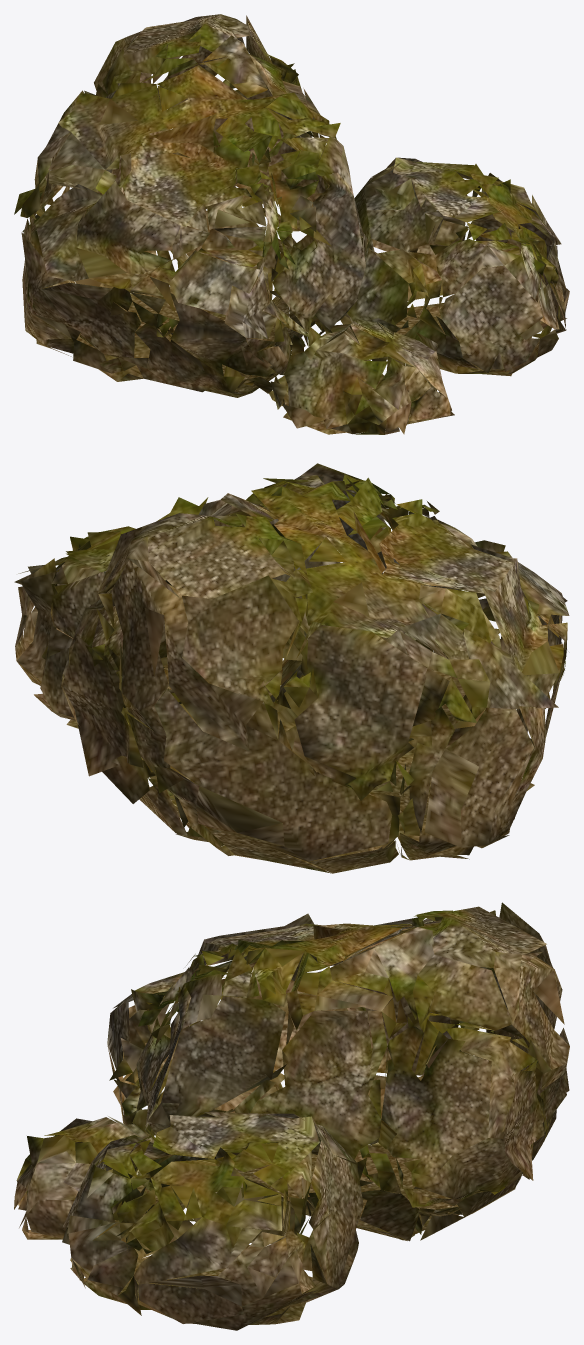
File: pedras_lod1.glb
3 renders of one model, top to bottom at view 1: azimuth 30°, elevation 25°; view 2: azimuth 150°, elevation 25°; view 3: azimuth 270°, elevation 25°, orthographic. The views are drawn at different scales.
Parts seen in each view (by area): view 1: pedras; view 2: pedras; view 3: pedras.
Boxes of the visible parts, x1=… form: pedras: x1=14, y1=14, x2=569, y2=434; pedras: x1=14, y1=463, x2=569, y2=873; pedras: x1=14, y1=902, x2=569, y2=1330.
Size of the model in its own units: 1.49 by 0.8219 by 1.39.
Materials: 1 (1 with a texture image).
